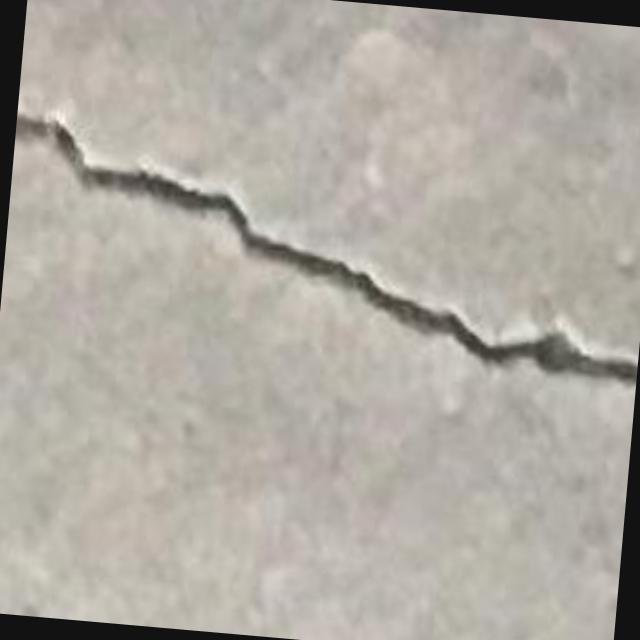crack: (15, 111, 637, 385)
